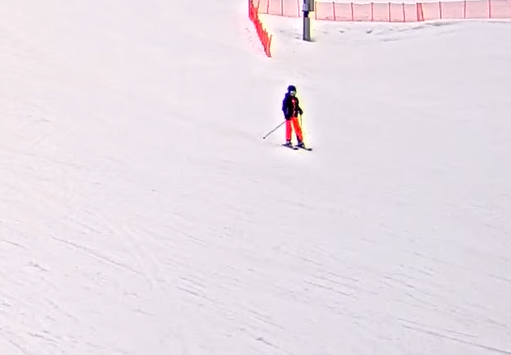skier: (259, 81, 315, 153)
